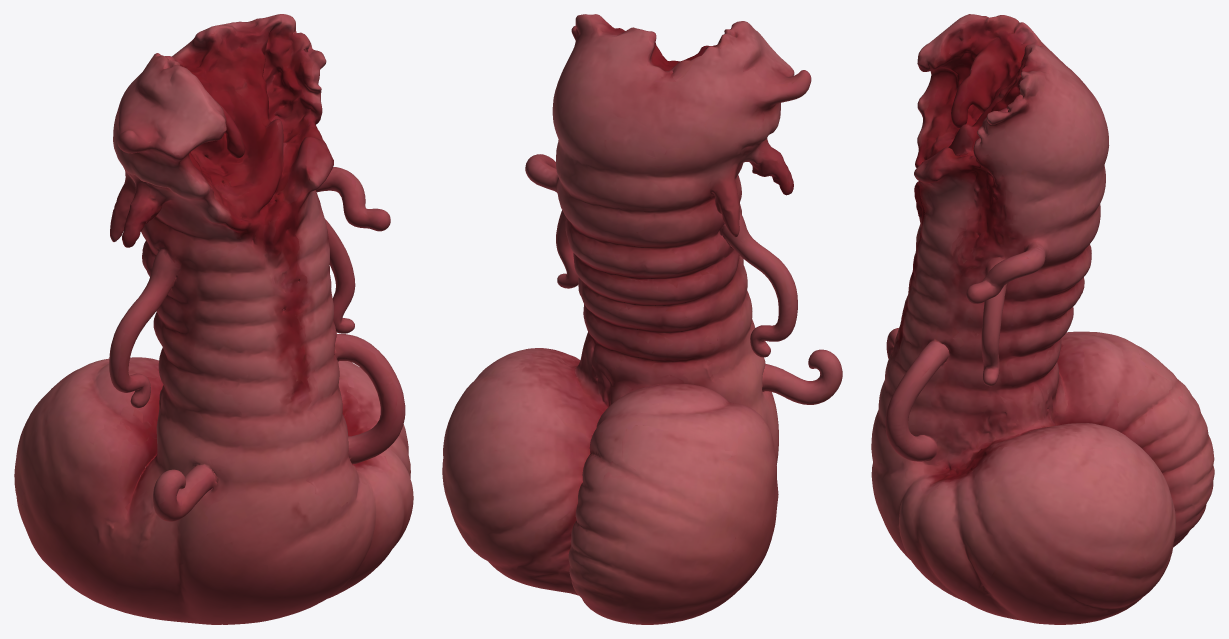
File: SARGI0_2026-08-17T000108.095.glb
3 views of the same model, side by side, from view 1: azimuth 30°, elevation 25°; view 2: azimuth 150°, elevation 25°; view 3: azimuth 270°, elevation 25° (orthographic). The views are drawn at different scales.
Parts seen in each view (by area): view 1: world; view 2: world; view 3: world.
Part boxes in pixels (x1,y1,x2,y2): world: (14, 14, 413, 624); world: (442, 14, 842, 624); world: (871, 14, 1214, 624).
Size of the model in its own units: 0.6186 by 1 by 0.5949.
1 material, 1 textured.
